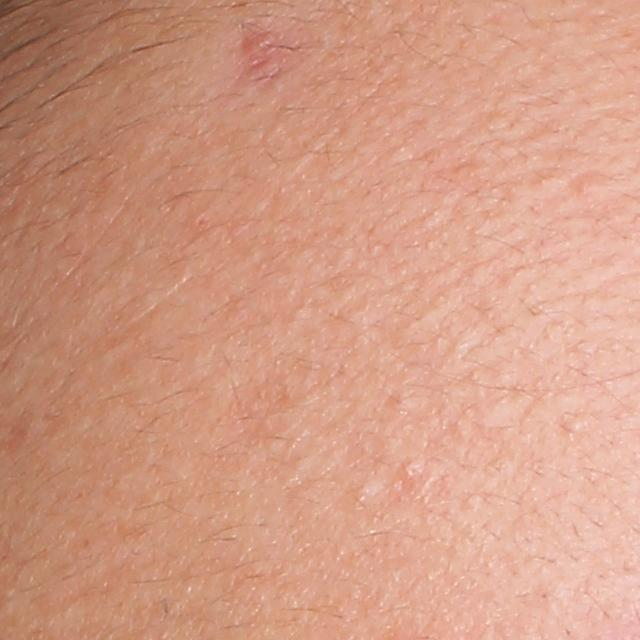comedo: (351, 479, 378, 505)
